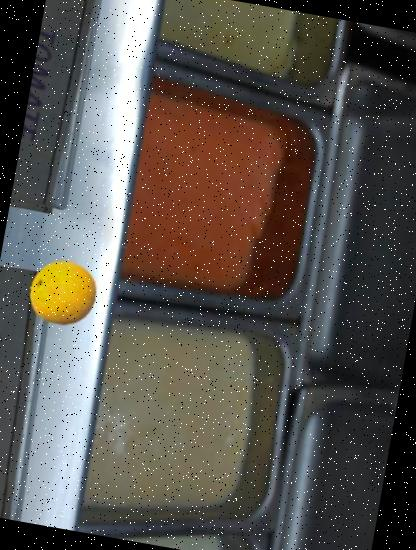Cantaloupe: (23, 253, 102, 332)
